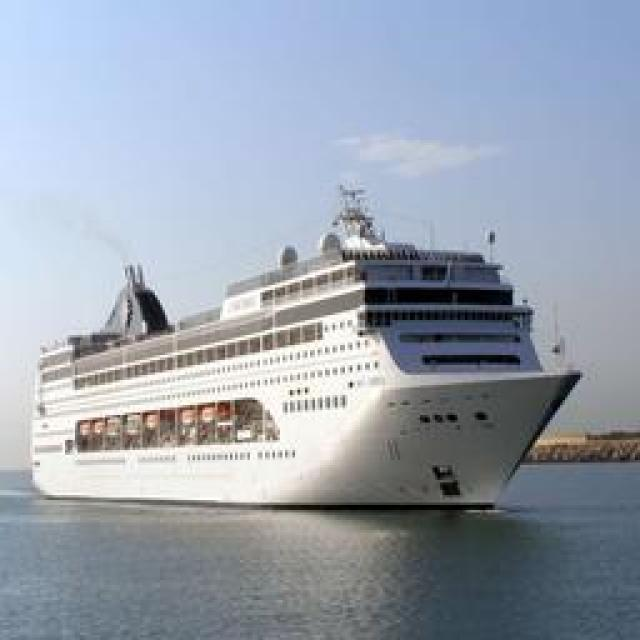CIV_Ship: (20, 196, 580, 512)
